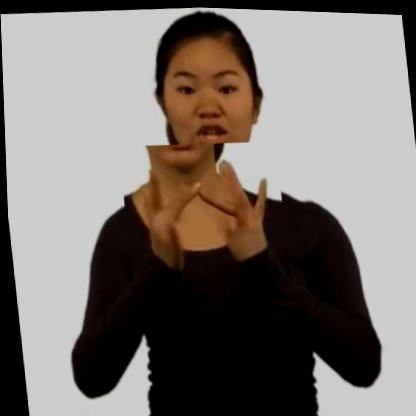Internet: (117, 135, 288, 285)
